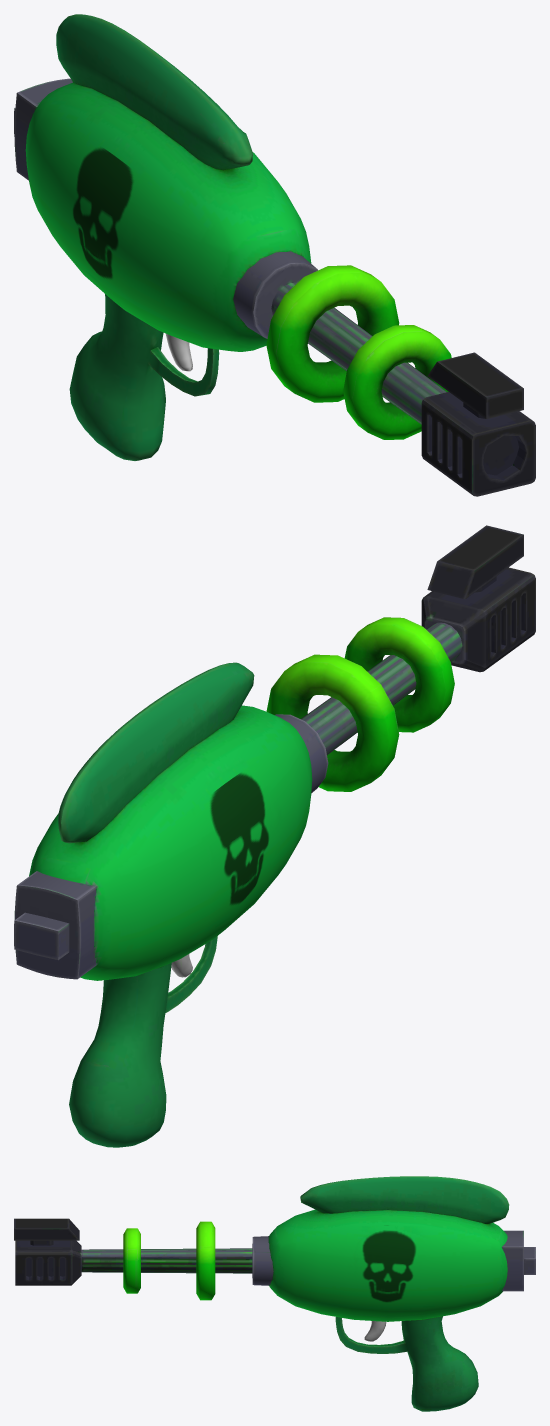
Rendered from LaserPistol.fbx.
The picture shows the model from 3 angles, top to bottom: view 1: azimuth 30°, elevation 25°; view 2: azimuth 150°, elevation 25°; view 3: azimuth 270°, elevation 25°; orthographic projection. The views are drawn at different scales.
Visible parts, largest first — view 1: PF_LaserPistol_Skin_01; view 2: PF_LaserPistol_Skin_01; view 3: PF_LaserPistol_Skin_01.
Part boxes in pixels (x1=…): PF_LaserPistol_Skin_01: x1=14, y1=14, x2=535, y2=496; PF_LaserPistol_Skin_01: x1=14, y1=525, x2=535, y2=1147; PF_LaserPistol_Skin_01: x1=14, y1=1176, x2=535, y2=1411.
Size of the model in its own units: 4.23 by 10.84 by 22.04.
1 material, 1 textured.
